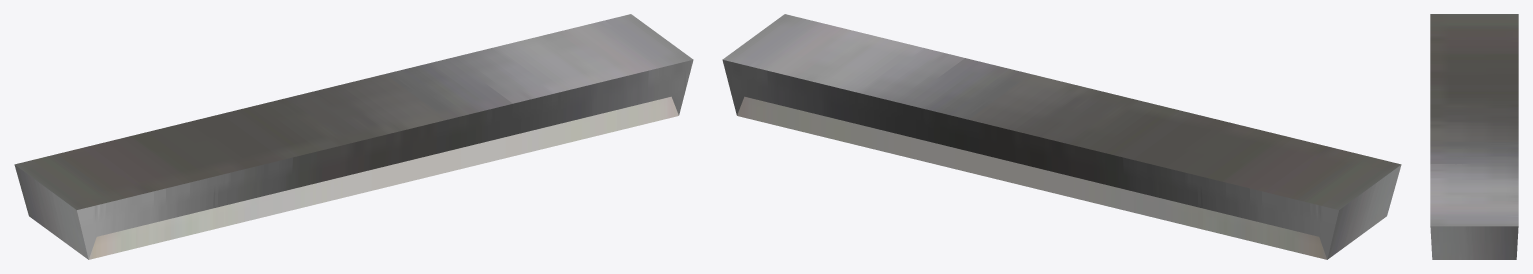
The model's file is Lampara_Techo.fbx.
3 renders of one model, left to right at view 1: azimuth 30°, elevation 25°; view 2: azimuth 150°, elevation 25°; view 3: azimuth 270°, elevation 25°, orthographic. The views are drawn at different scales.
Visible parts, largest first — view 1: lampara de techo; view 2: lampara de techo; view 3: lampara de techo.
Part boxes in pixels (x1,y1,x2,y2): lampara de techo: (14, 14, 693, 259); lampara de techo: (722, 14, 1401, 259); lampara de techo: (1430, 14, 1518, 259).
Size of the model in its own units: 811 by 67.89 by 142.
Materials: 1 (1 with a texture image).
